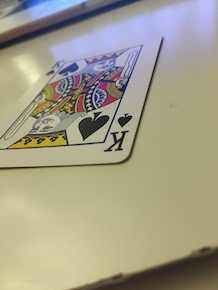KingOfSpades: (1, 32, 171, 171)
